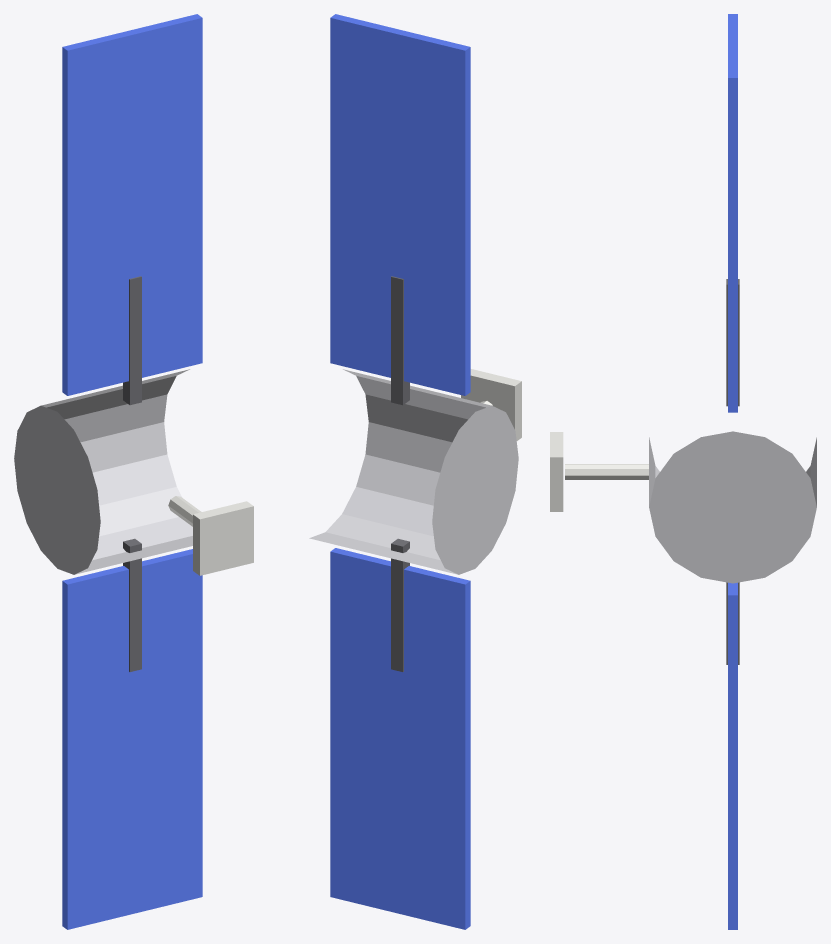
File: satellite-generic.glb
3 renders of one model, left to right at view 1: azimuth 30°, elevation 25°; view 2: azimuth 150°, elevation 25°; view 3: azimuth 270°, elevation 25°, orthographic. The views are drawn at different scales.
Visible parts, largest first — view 1: satellite-generic; view 2: satellite-generic; view 3: satellite-generic.
Part boxes in pixels (x1=…): satellite-generic: x1=14, y1=14, x2=253, y2=929; satellite-generic: x1=309, y1=14, x2=521, y2=929; satellite-generic: x1=550, y1=14, x2=816, y2=929.
Size of the model in its own units: 1 by 5.6 by 1.59.
